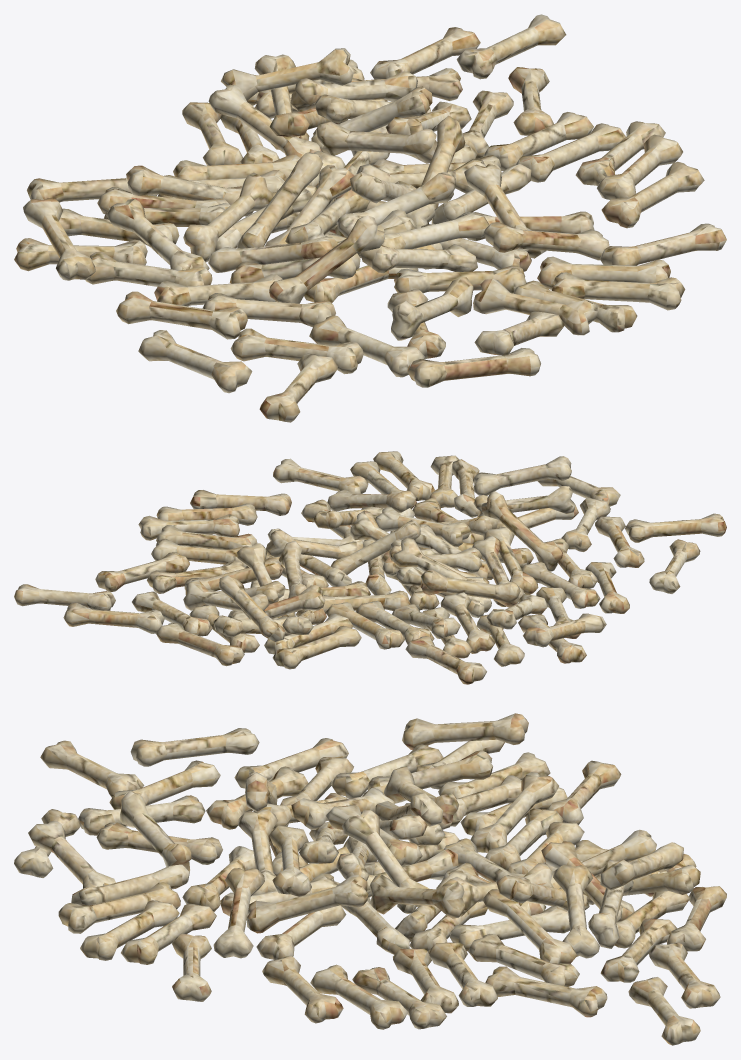
Rendered from bone_3_2.fbx.
3 views of the same model, one above another, from view 1: azimuth 30°, elevation 25°; view 2: azimuth 150°, elevation 25°; view 3: azimuth 270°, elevation 25° (orthographic). The views are drawn at different scales.
Visible parts, largest first — view 1: Sphere012_Material #219_0.006; view 2: Sphere012_Material #219_0.006; view 3: Sphere012_Material #219_0.006.
Part boxes in pixels (bbox=[...]): Sphere012_Material #219_0.006: bbox=[14, 14, 726, 422]; Sphere012_Material #219_0.006: bbox=[14, 451, 726, 684]; Sphere012_Material #219_0.006: bbox=[14, 713, 726, 1045].
Size of the model in its own units: 6677 by 832 by 6595.
